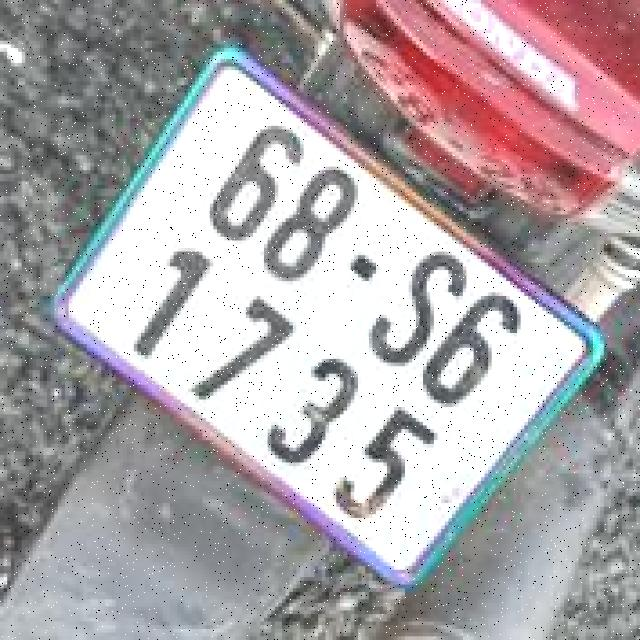1: (107, 232, 234, 379)
3: (248, 342, 383, 485)
5: (310, 389, 460, 542)
6: (400, 273, 546, 431), (189, 104, 320, 264)
7: (165, 278, 311, 424)
8: (248, 140, 380, 302)
S: (348, 225, 483, 389)
